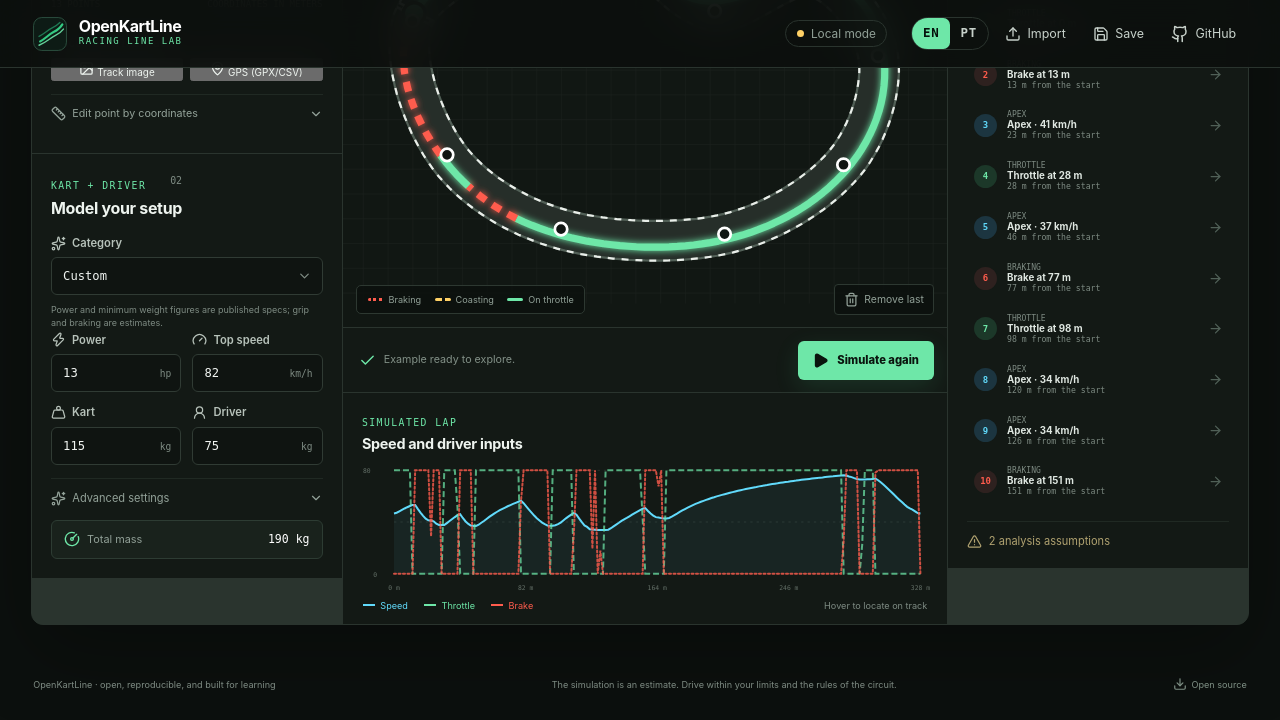
Test: a solved lap follows the language toggle › translates the run-bar status written before the switch
The image size is (1280, 720).
(page scrolled)
Click the button "Simulate again" at x=866, y=360, box [798,341,934,380]
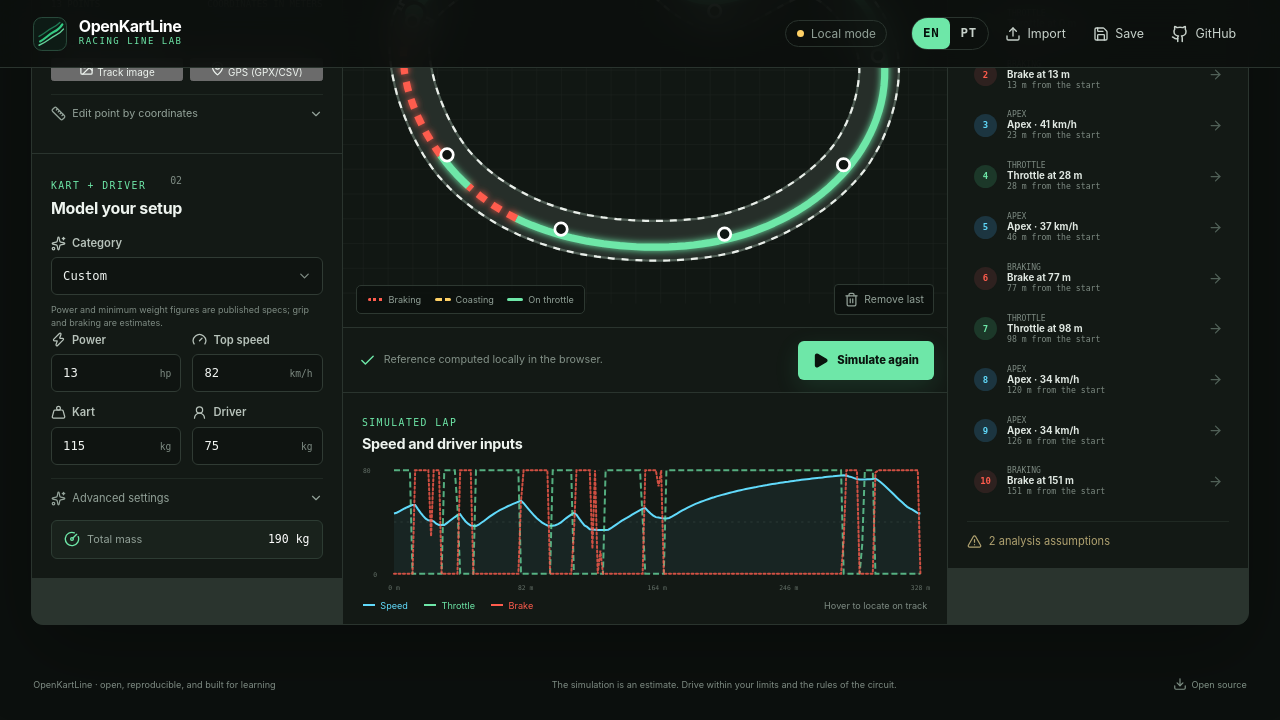
Expected: the text "Reference computed locally in the browser." is shown, [359,352,603,369]
Click the button "PT" at x=969, y=34, box [950,18,988,49]
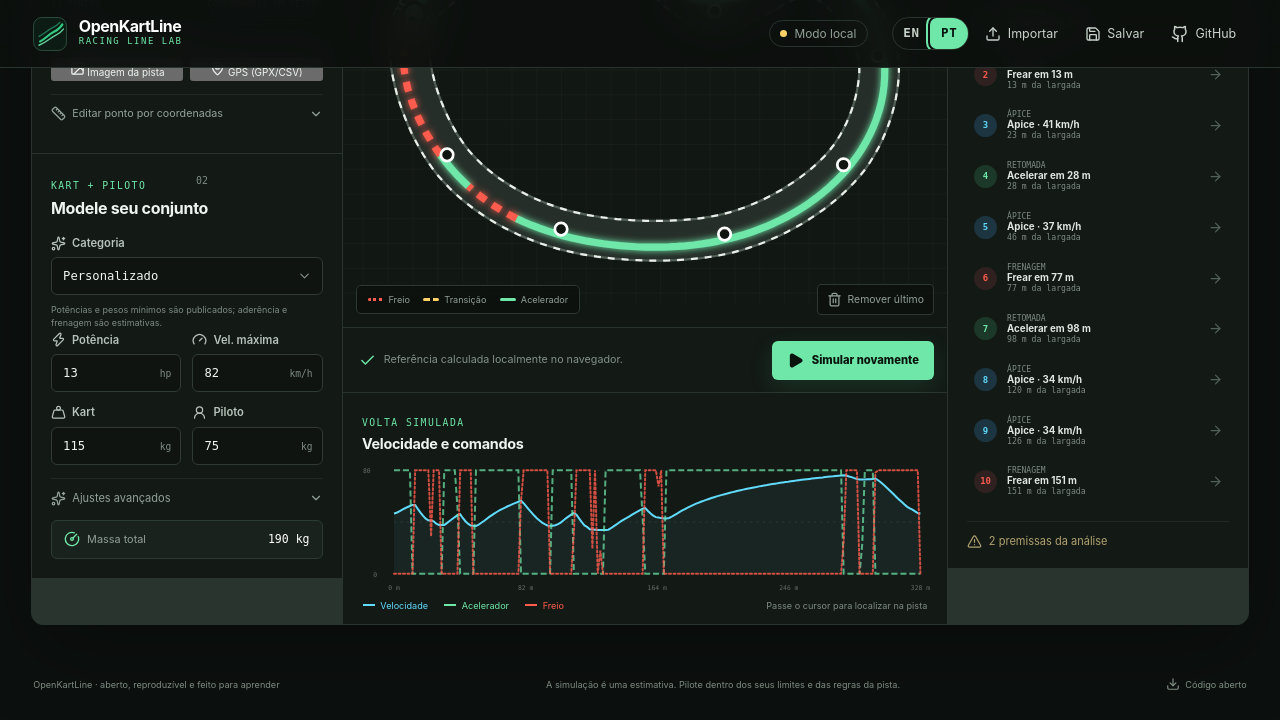
Expected: the message with class "run-message" reads "Referência calculada localmente no navegador.", [384,353,623,366]
